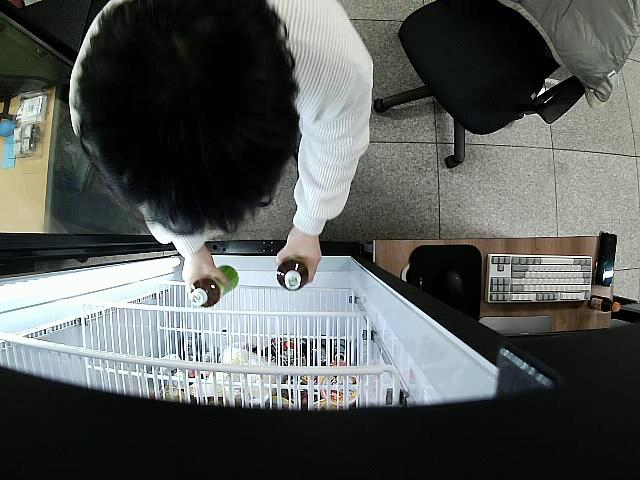00_hand: (275, 229, 321, 286), (183, 247, 228, 294)
19_17cha: (188, 265, 237, 307), (275, 257, 309, 290)
